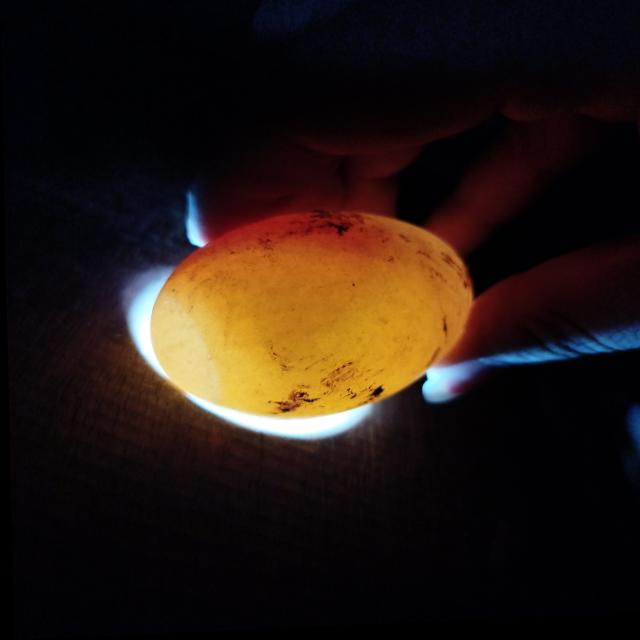Camara de Ar: (149, 294, 219, 400)
